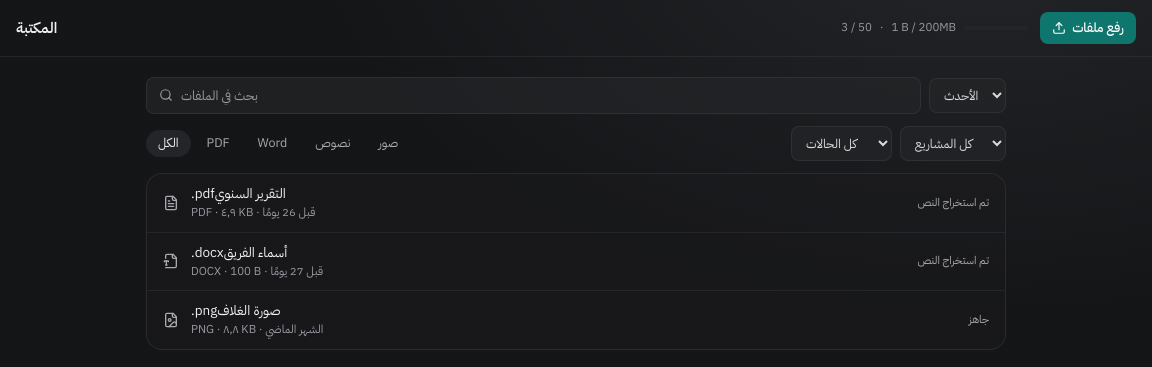
Test: المكتبة: العرض والبحث والتصفية والترتيب › البحث عربيّ بلا همزة ولا «ال»، ولا يرسل طلبًا
Type "اسماء" into the search field labelled "بحث في الملفات" at (544, 95), box [181,86,908,105]
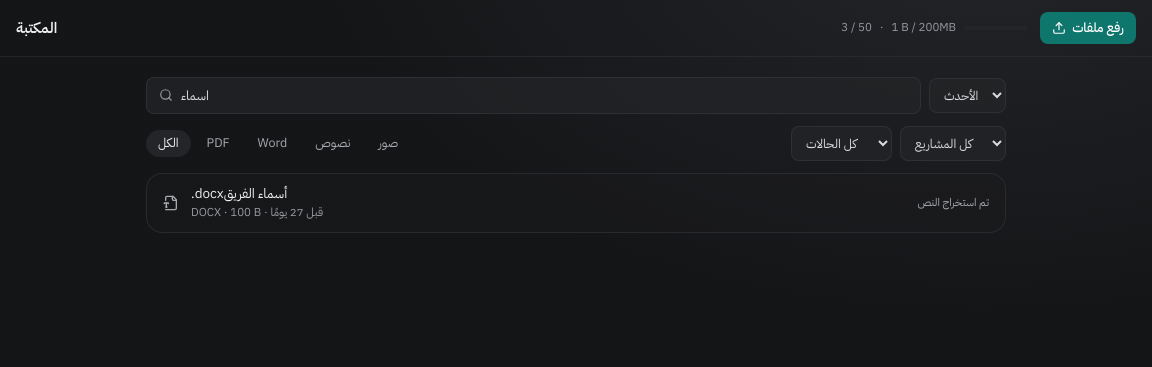
Replace the text in the search field with "zzz" at (544, 95), box [181,86,908,105]
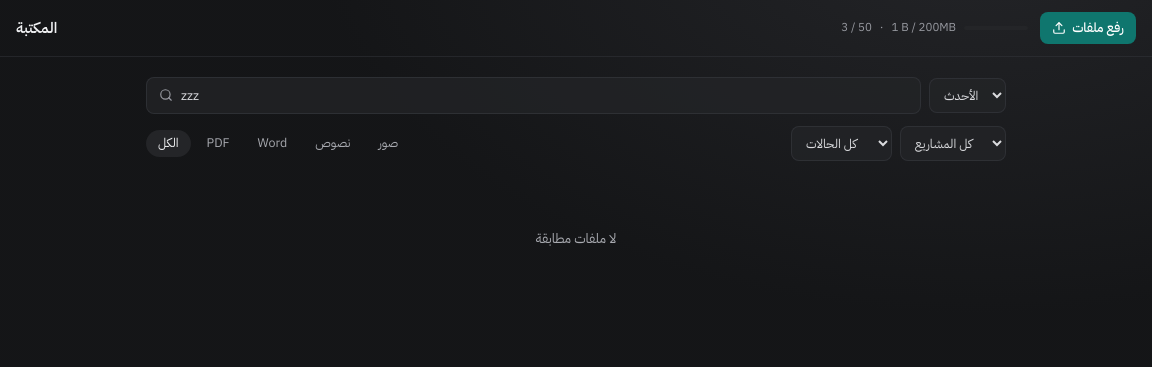
Expected: the text "لا ملفات مطابقة" is shown, [536,228,616,249]
